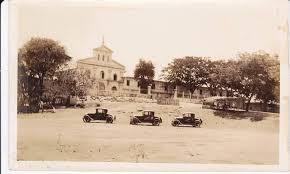manaoag_church_manaoag_pangasinan: (76, 34, 129, 99)
